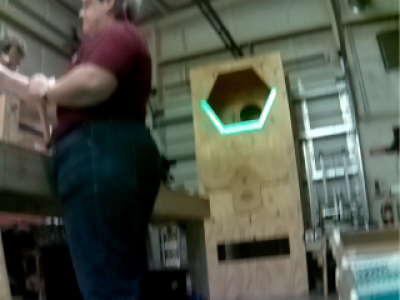target: (199, 87, 278, 134)
